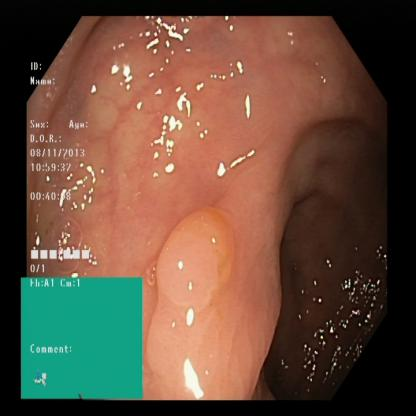Labels: (28, 60, 116, 278), (22, 280, 145, 398)
Polyps: (156, 207, 239, 325)
